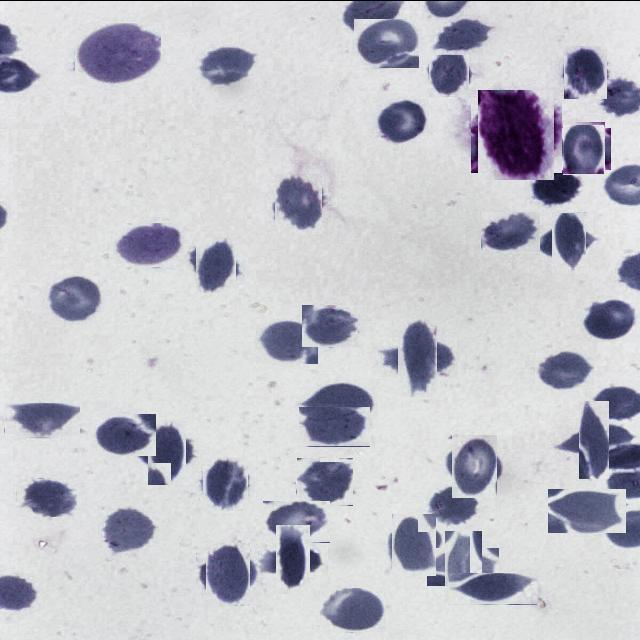leukocyte: (474, 92, 558, 176)
red blood cell: (75, 22, 161, 84), (388, 326, 447, 386), (548, 488, 626, 532), (353, 18, 419, 68), (113, 222, 184, 266), (436, 538, 490, 594), (319, 587, 386, 632), (301, 381, 374, 421), (448, 438, 502, 492), (201, 547, 255, 601), (568, 412, 622, 466), (387, 516, 441, 570), (271, 176, 325, 230), (298, 406, 370, 446), (262, 500, 330, 542), (448, 572, 537, 604), (46, 273, 104, 322), (256, 318, 318, 363), (371, 98, 429, 146), (296, 457, 353, 505), (140, 426, 192, 478), (267, 533, 319, 585), (92, 413, 156, 455), (4, 402, 80, 437), (197, 43, 257, 86), (100, 506, 158, 550), (200, 458, 250, 508), (480, 211, 540, 252), (582, 296, 636, 341), (535, 349, 594, 390), (302, 304, 358, 346), (562, 48, 610, 96), (192, 240, 240, 288), (560, 124, 608, 172), (545, 218, 593, 266), (424, 485, 481, 525), (17, 478, 77, 516), (432, 18, 494, 54), (529, 170, 585, 206), (428, 50, 472, 94)
